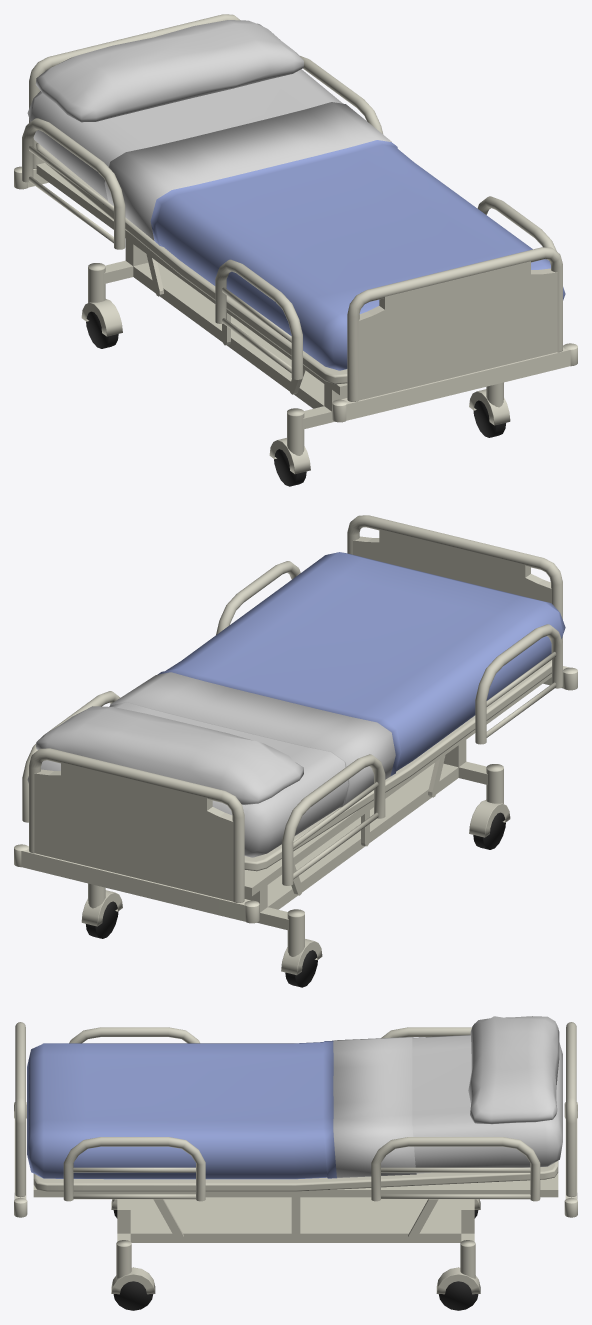
File: hospital_bed.glb
3 views of the same model, one above another, from view 1: azimuth 30°, elevation 25°; view 2: azimuth 150°, elevation 25°; view 3: azimuth 270°, elevation 25° (orthographic). The views are drawn at different scales.
Parts seen in each view (by area): view 1: Object_4, Object_3, Object_6, Object_5, Object_2; view 2: Object_4, Object_3, Object_6, Object_5, Object_2; view 3: Object_4, Object_3, Object_6, Object_2, Object_5.
Part boxes in pixels (bbox=[...]): Object_4: bbox=[22, 14, 562, 474]; Object_3: bbox=[150, 140, 565, 370]; Object_6: bbox=[27, 20, 391, 240]; Object_5: bbox=[14, 166, 577, 422]; Object_2: bbox=[86, 311, 505, 486]; Object_4: bbox=[22, 515, 562, 975]; Object_3: bbox=[158, 552, 565, 776]; Object_6: bbox=[27, 672, 395, 857]; Object_5: bbox=[14, 666, 577, 923]; Object_2: bbox=[86, 812, 505, 987]; Object_4: bbox=[15, 1022, 576, 1294]; Object_3: bbox=[27, 1040, 336, 1179]; Object_6: bbox=[333, 1016, 562, 1177]; Object_2: bbox=[113, 1210, 478, 1310]; Object_5: bbox=[14, 1102, 577, 1217].
Size of the model in its own units: 100 by 89.68 by 210.
